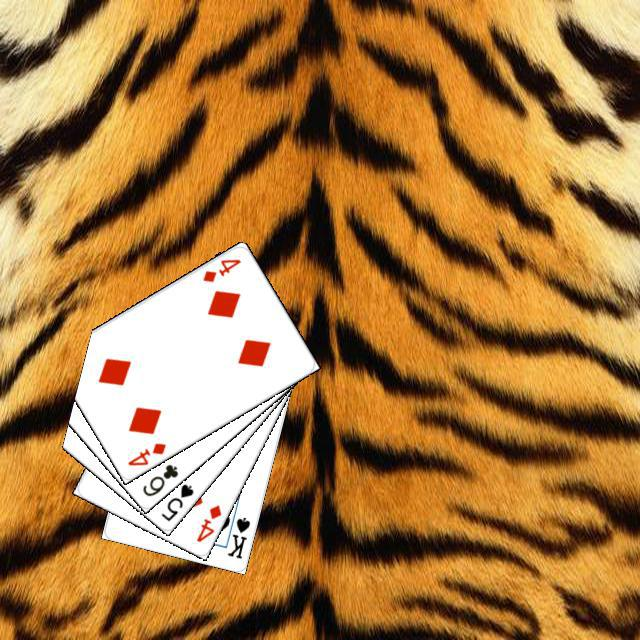4d: (191, 500, 223, 544), (123, 438, 168, 468), (197, 254, 242, 284)
5s: (156, 479, 195, 523)
6c: (137, 459, 180, 498)
Ks: (222, 512, 252, 560)
